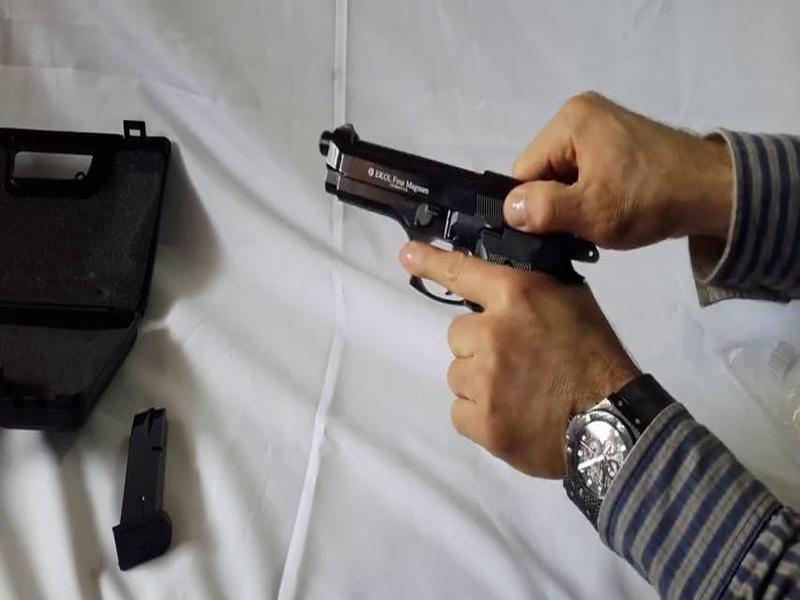Pistola: (283, 98, 597, 387)
